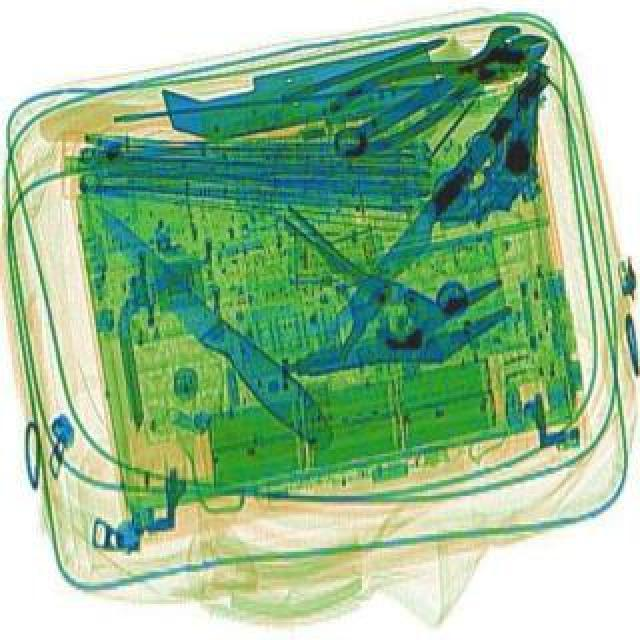gun: (438, 72, 546, 232)
knife: (320, 72, 568, 356), (82, 200, 346, 462)
scissors: (324, 24, 540, 174)
wrench: (324, 14, 568, 170)
